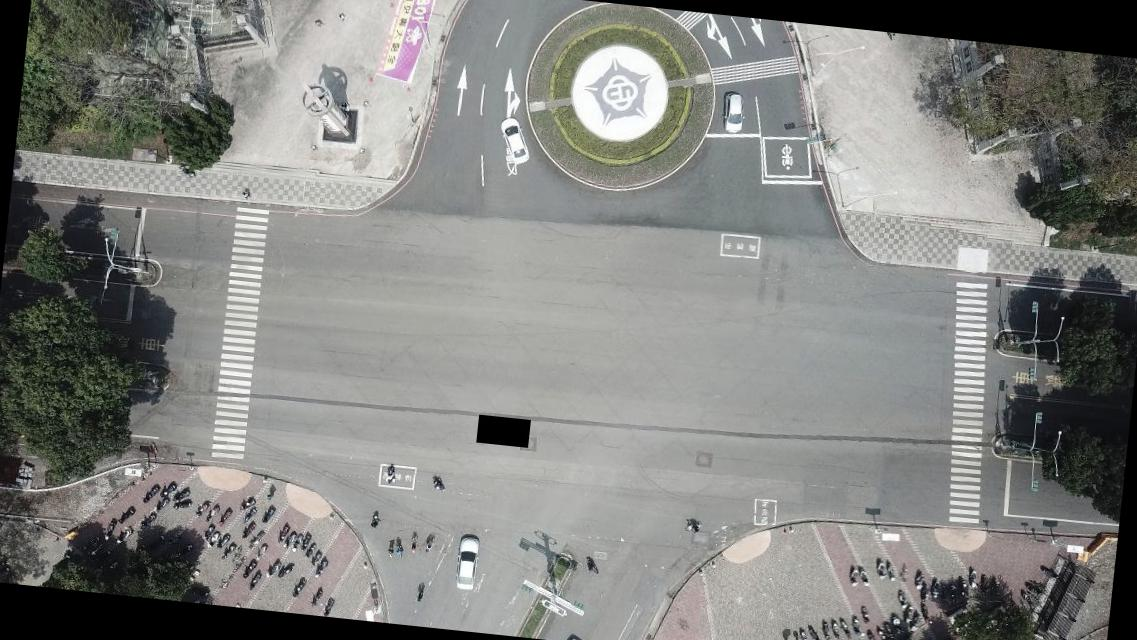vehicle: (494, 116, 533, 167), (452, 532, 482, 592), (722, 89, 747, 136)
